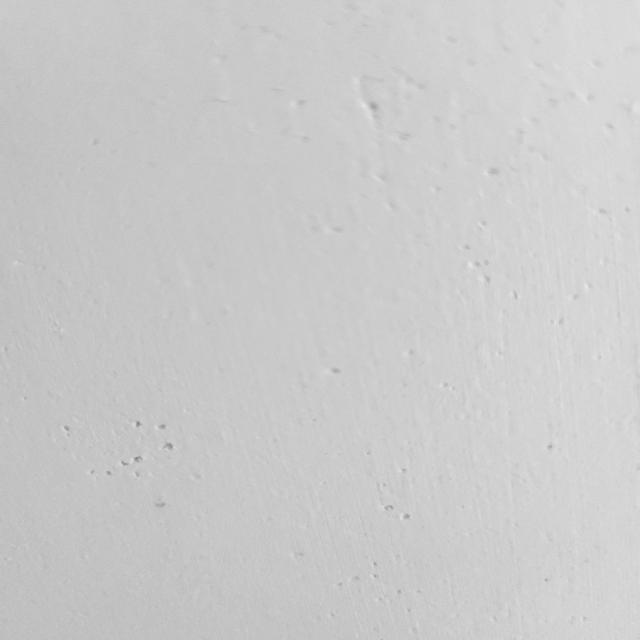rough and patchy surface: (259, 0, 622, 640), (0, 348, 210, 522), (0, 538, 235, 640), (1, 114, 96, 348)
